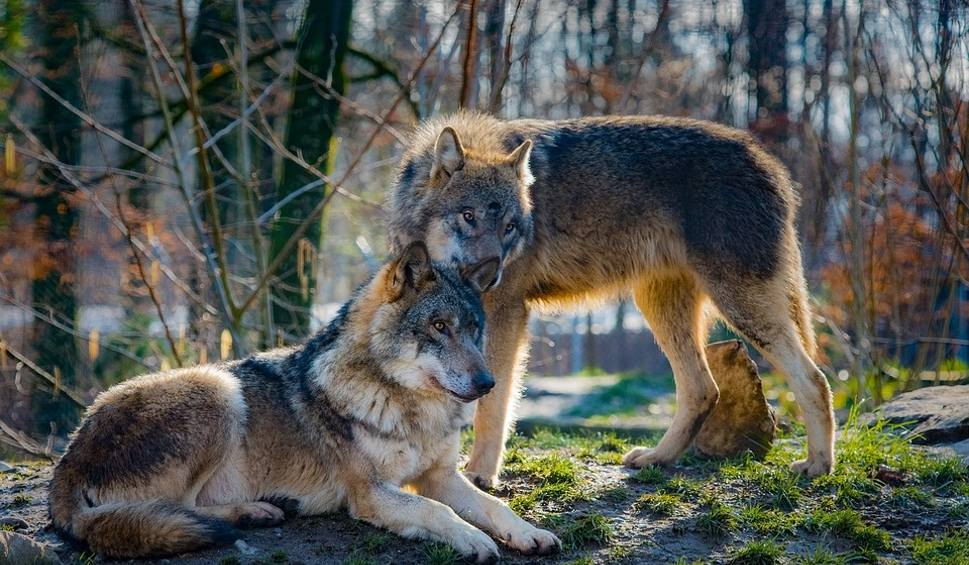wolf: (339, 106, 869, 486), (51, 262, 566, 561)
